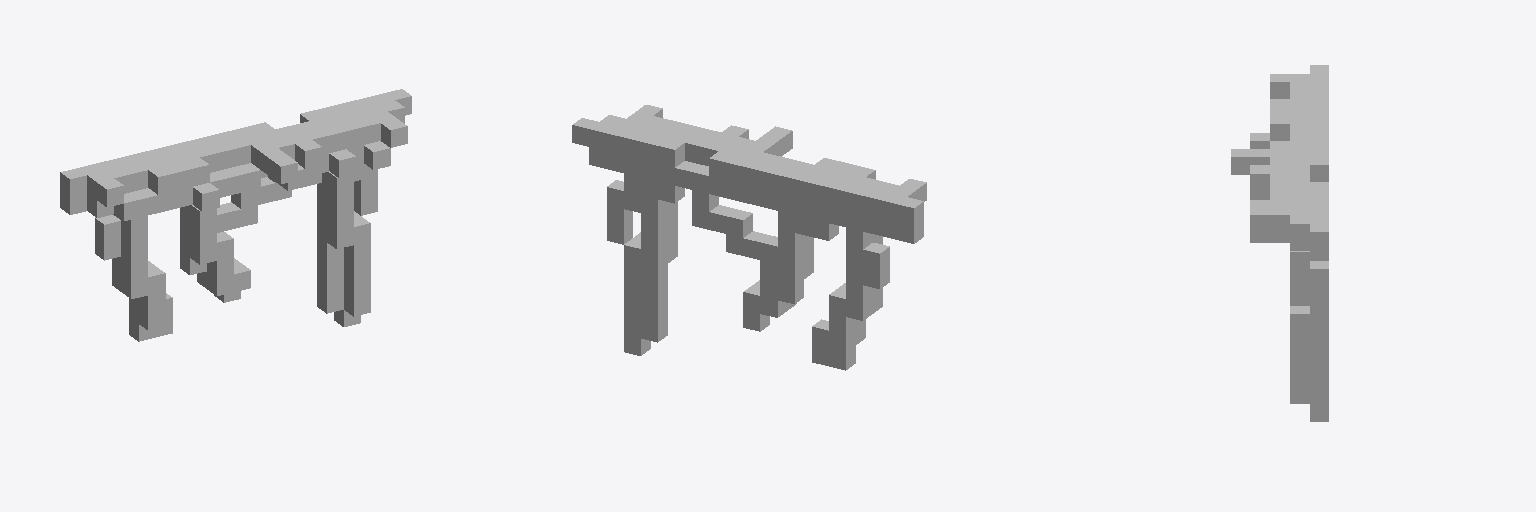
Rendered from Leana.obj.
3 renders of one model, left to right at view 1: azimuth 30°, elevation 25°; view 2: azimuth 150°, elevation 25°; view 3: azimuth 270°, elevation 25°, orthographic.
Parts seen in each view (by area): view 1: grass; view 2: grass; view 3: grass.
Part boxes in pixels (bbox=[...]): grass: bbox=[60, 89, 411, 341]; grass: bbox=[572, 105, 926, 370]; grass: bbox=[1231, 65, 1328, 421].
Bounding box in the file's own units: 2 × 1.2 × 0.5.